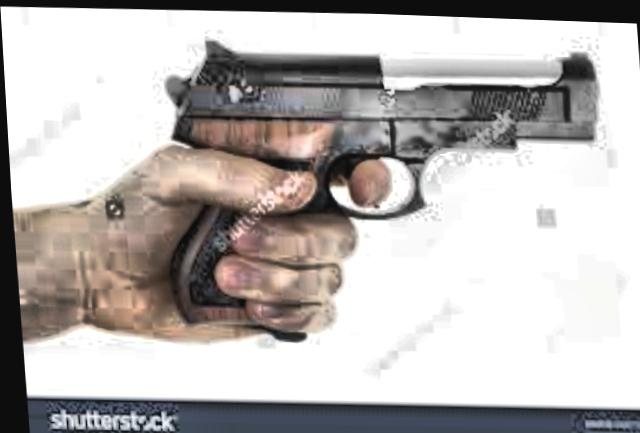pistol: (152, 16, 612, 341)
